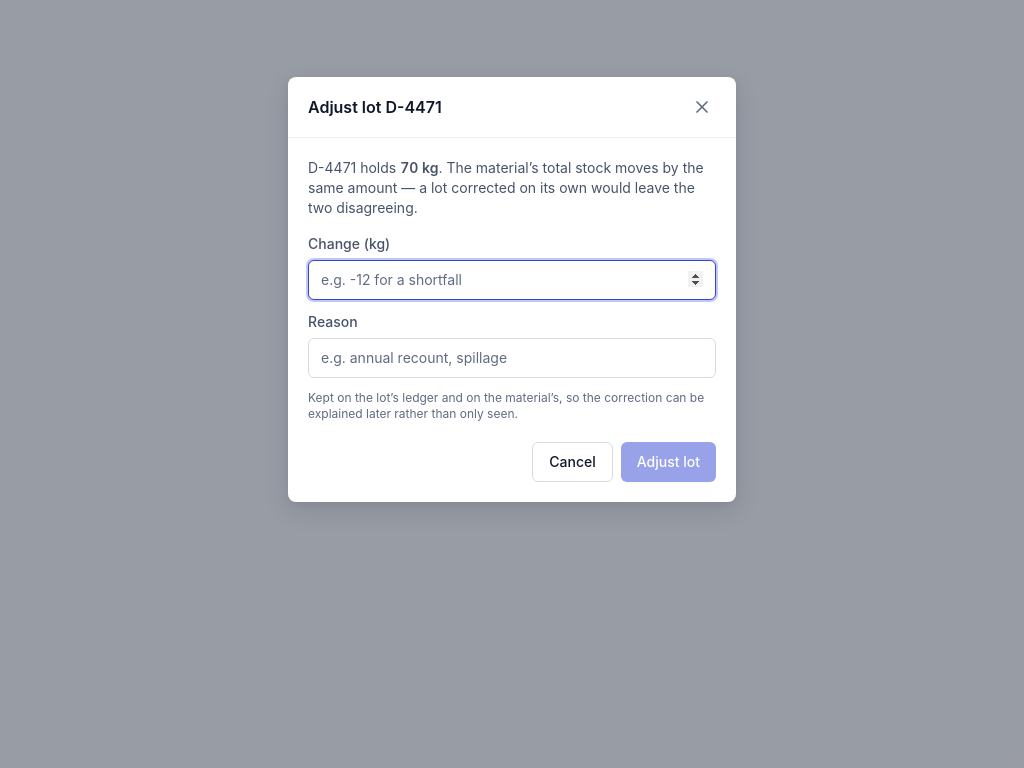
Scenario: adjusting a lot › previews where the balance lands
Type "-12" into the number field named "Adjustment in kg" at point(512, 280), box [308,260,716,300]
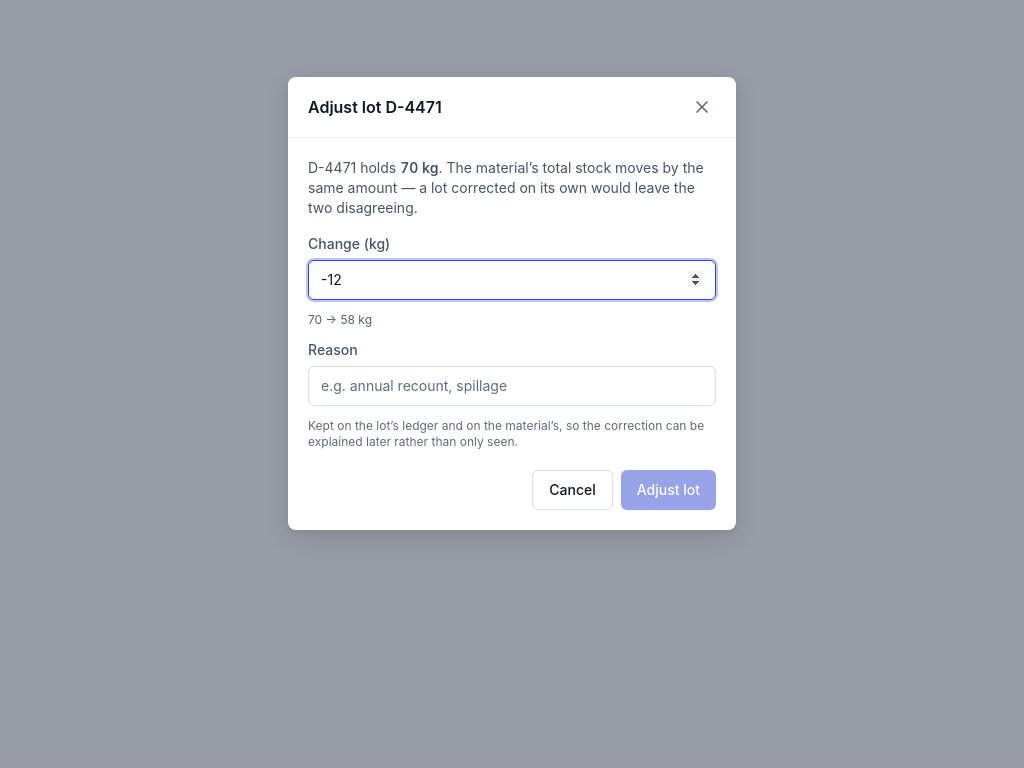
Result: the text "70 → 58 kg" is shown at [308,312,372,327]
